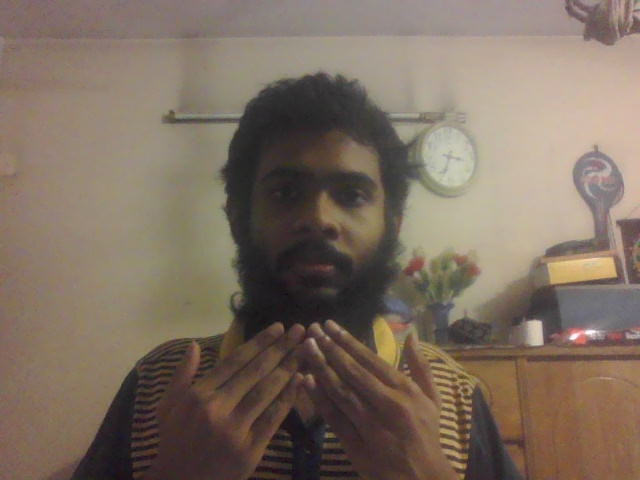Thank You: (157, 321, 453, 478)
